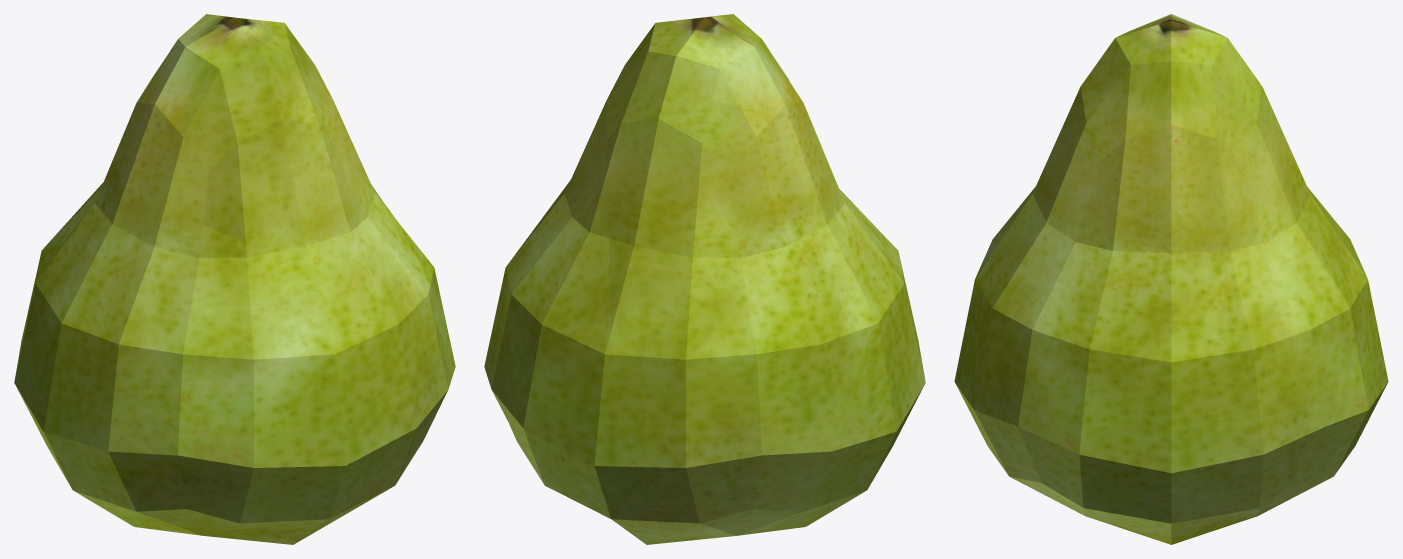
Rendered from pear.fbx.
3 views of the same model, side by side, from view 1: azimuth 30°, elevation 25°; view 2: azimuth 150°, elevation 25°; view 3: azimuth 270°, elevation 25° (orthographic).
Parts seen in each view (by area): view 1: pear, pear_cell.003, pear_cell.001, pear_cell.000, pear_cell.002; view 2: pear_cell.000, pear, pear_cell.002, pear_cell.001, pear_cell.003; view 3: pear_cell.002, pear, pear_cell.001, pear_cell.003, pear_cell.000.
Part boxes in pixels (x1,y1,x2,y2): pear: (14, 16, 455, 543); pear_cell.003: (29, 208, 448, 544); pear_cell.001: (148, 14, 435, 326); pear_cell.000: (14, 64, 161, 457); pear_cell.002: (397, 221, 455, 365); pear_cell.000: (604, 100, 872, 538); pear: (484, 14, 924, 544); pear_cell.002: (484, 132, 672, 521); pear_cell.001: (606, 14, 830, 170); pear_cell.003: (806, 169, 925, 526); pear_cell.002: (1027, 159, 1388, 544); pear: (955, 14, 1384, 544); pear_cell.001: (1004, 14, 1254, 364); pear_cell.003: (954, 202, 1041, 482); pear_cell.000: (1251, 73, 1352, 245).
Bounding box in the file's own units: 0.8494 × 1.05 × 0.8494.
